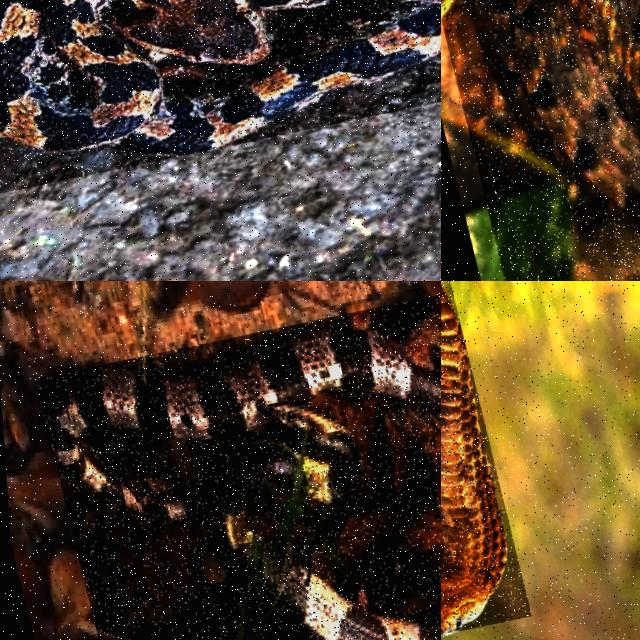Bungarus candidus: (49, 325, 440, 520)
Calloselasma rhodostoma: (472, 0, 639, 220)
Ophiophagus hannah: (441, 288, 506, 634)
Ovophis monticola: (0, 0, 440, 153)
snake: (49, 325, 440, 520), (0, 0, 440, 153), (472, 0, 639, 220), (441, 288, 506, 634)
